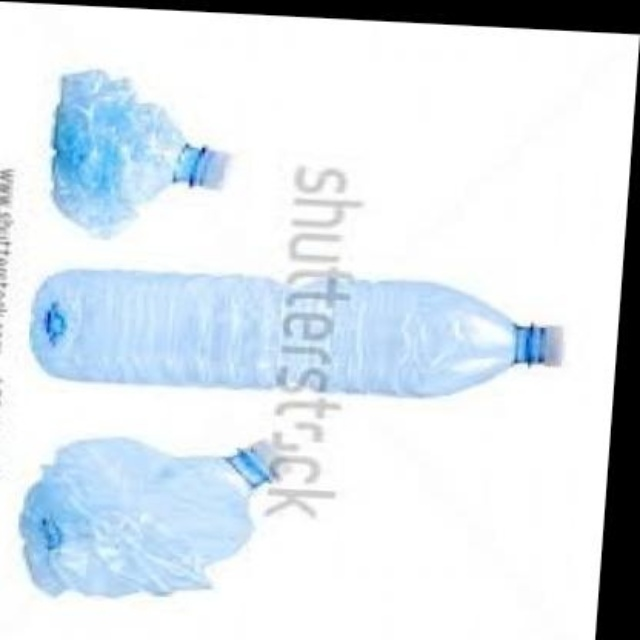trash: (31, 271, 560, 394), (20, 438, 268, 595), (52, 71, 226, 235)
